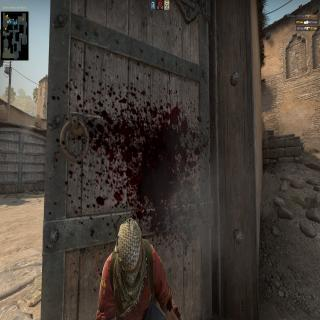T-Head: (114, 215, 147, 292)
